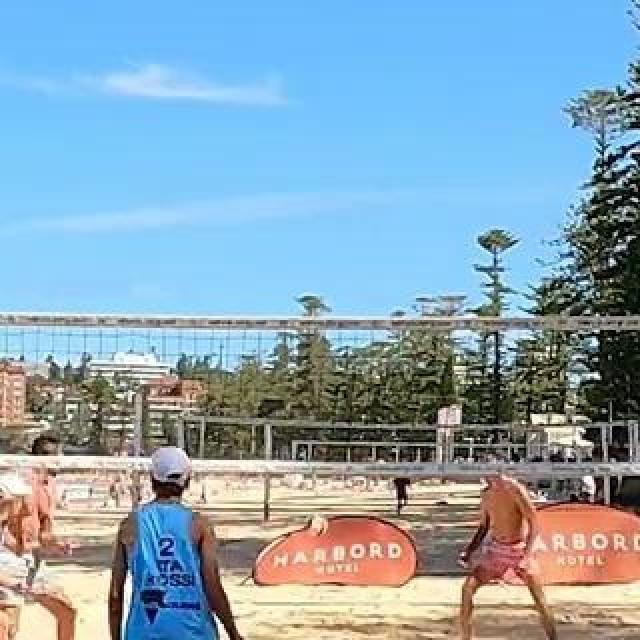volleyball: (307, 515, 329, 535)
